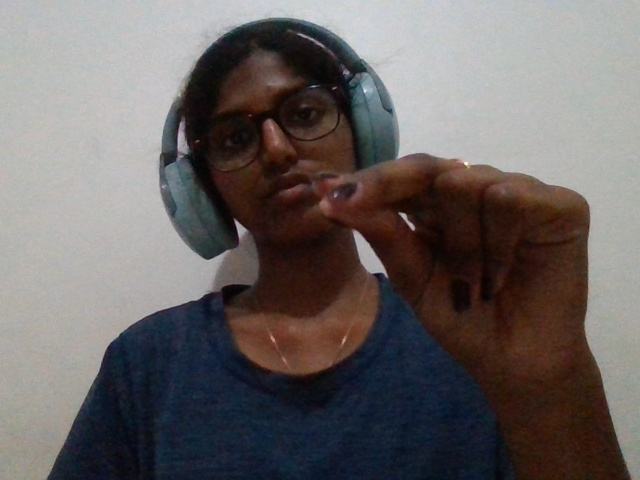No: (277, 121, 640, 438)
